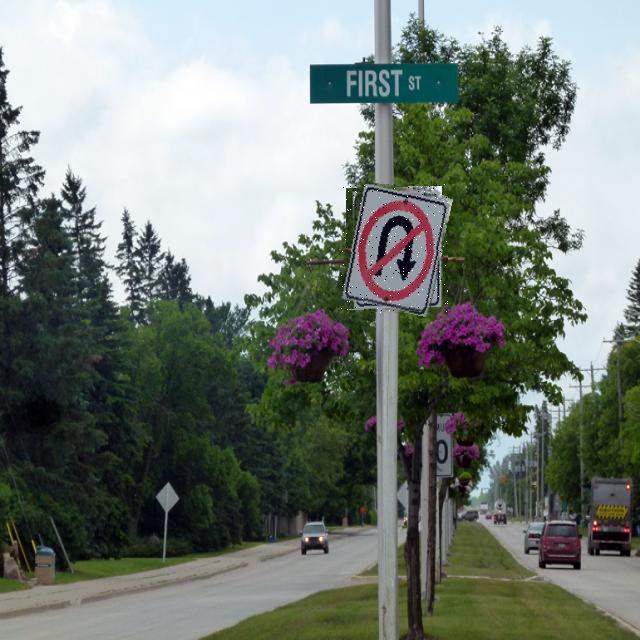no u turn: (340, 184, 448, 313)
